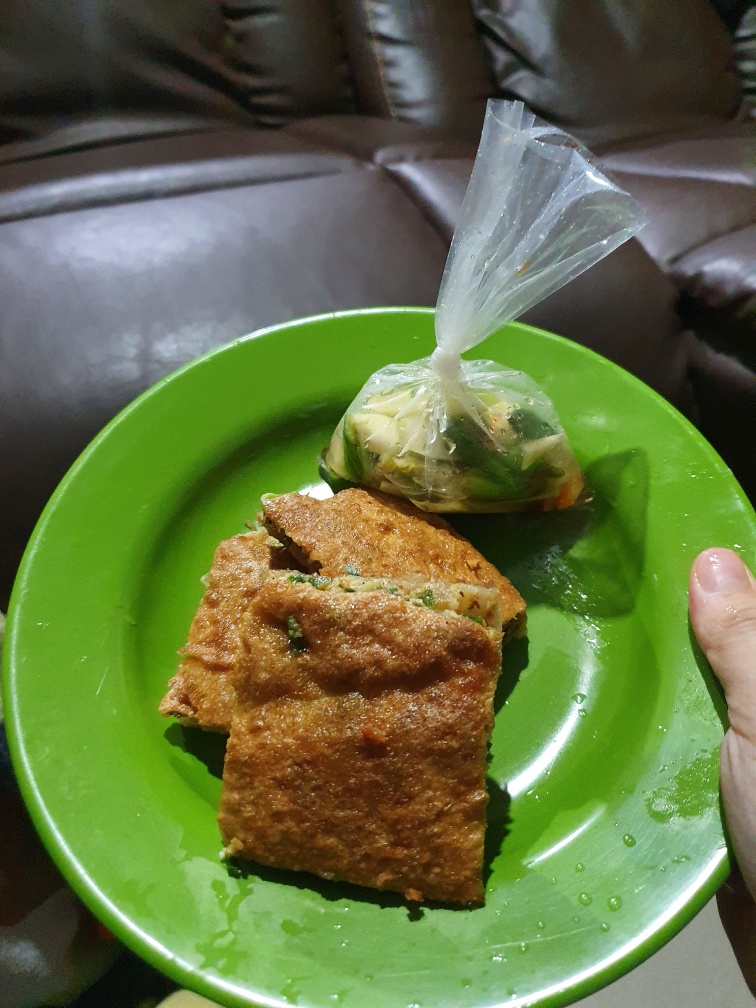martabak telor: (208, 556, 521, 927), (260, 460, 540, 657), (172, 520, 295, 742)
